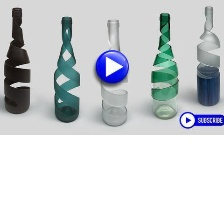bottle: (0, 4, 35, 118), (99, 16, 130, 129), (51, 13, 81, 123), (150, 11, 179, 120), (195, 5, 221, 108)
